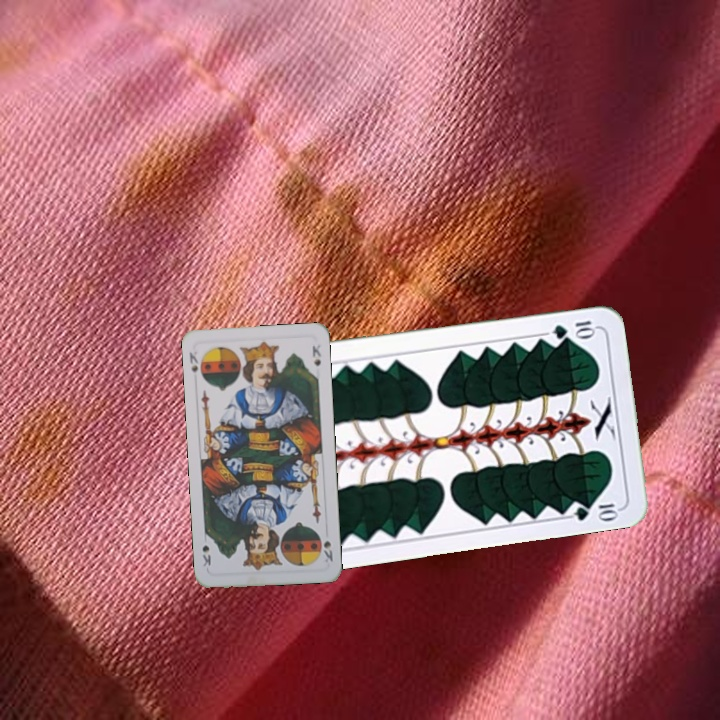G10: (548, 316, 598, 341)
SK: (185, 348, 201, 375), (320, 537, 335, 565)
